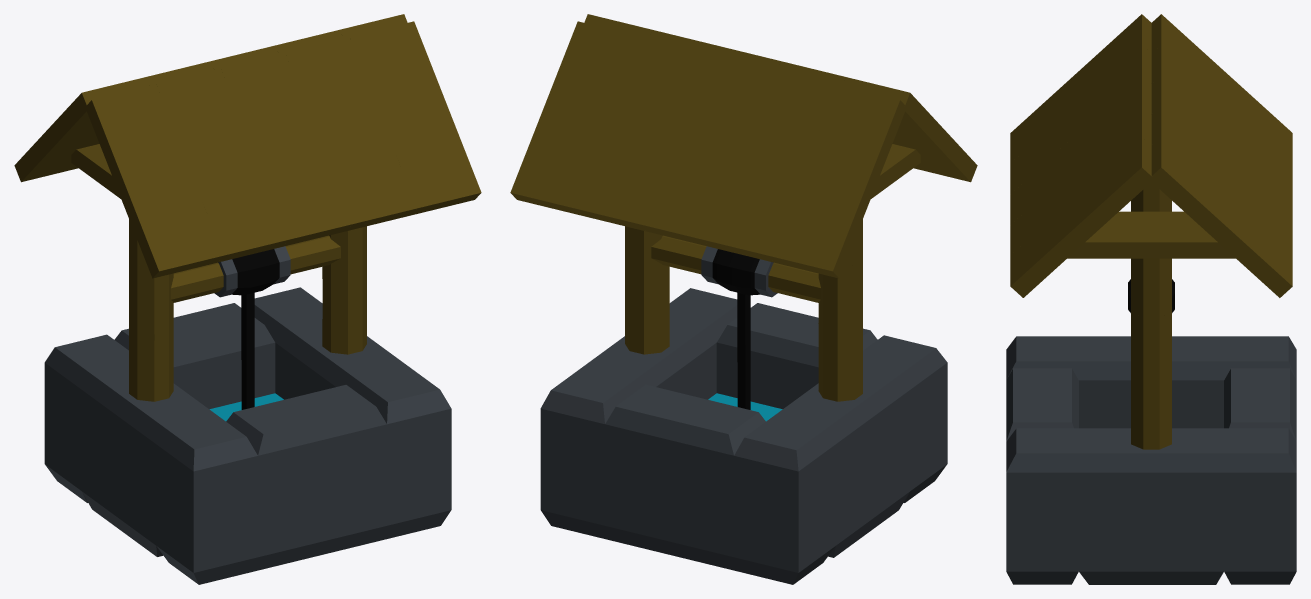
Rendered from Well_Wood.fbx.
The picture shows the model from 3 angles, left to right: view 1: azimuth 30°, elevation 25°; view 2: azimuth 150°, elevation 25°; view 3: azimuth 270°, elevation 25°; orthographic projection. The views are drawn at different scales.
Parts seen in each view (by area): view 1: Well_Wood_Full; view 2: Well_Wood_Full; view 3: Well_Wood_Full.
Part boxes in pixels (x1,y1,x2,y2): Well_Wood_Full: (14, 14, 481, 584); Well_Wood_Full: (510, 14, 977, 584); Well_Wood_Full: (1006, 14, 1296, 584).
Size of the model in its own units: 5 by 6.62 by 4.
